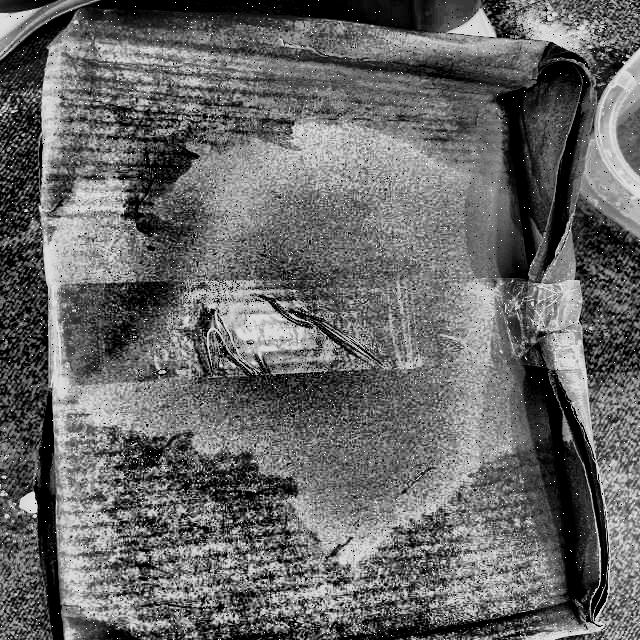box: (37, 15, 605, 640)
wet: (63, 402, 581, 640), (42, 23, 583, 247)
